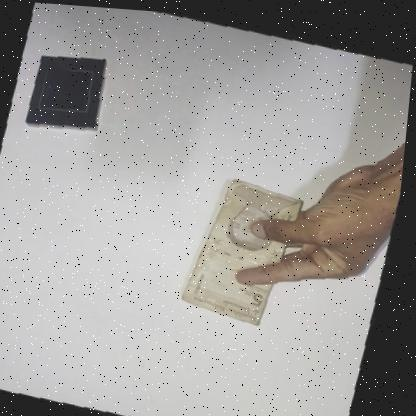five-front-vef: (182, 167, 310, 325)
